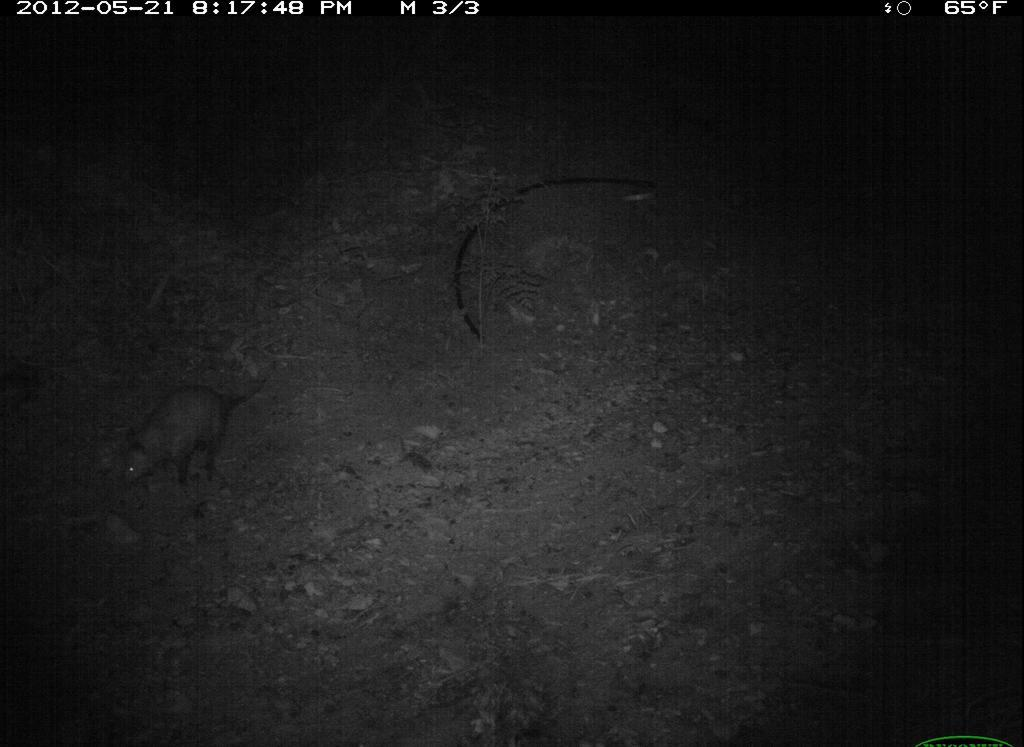opossum: (91, 353, 289, 498)
